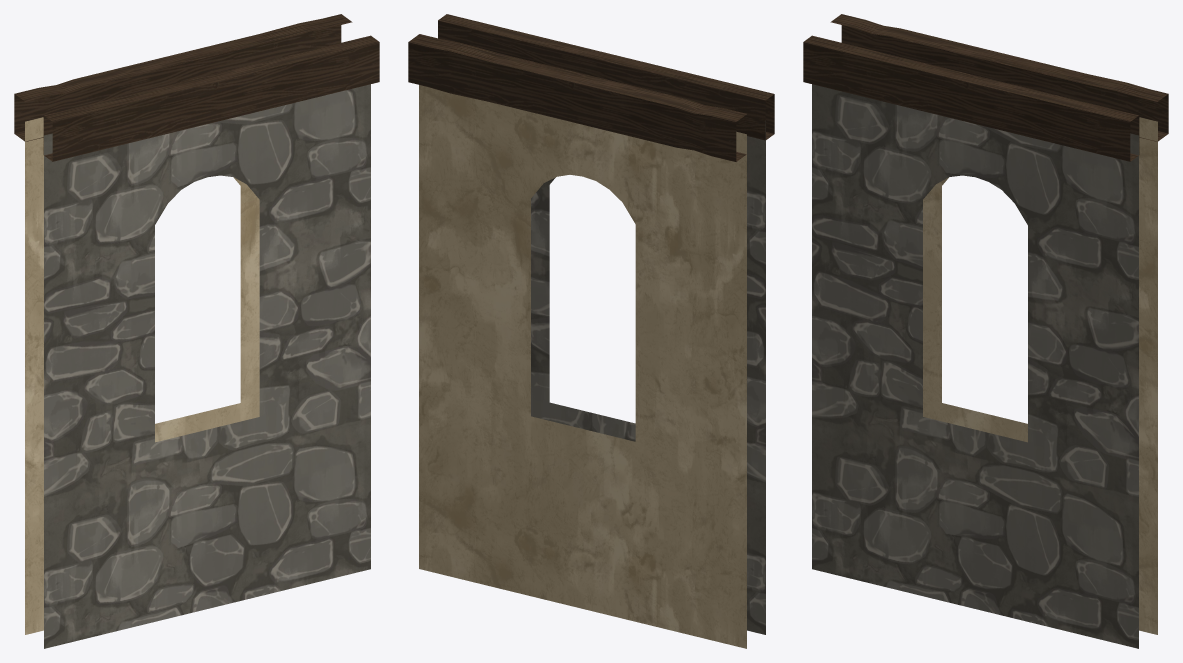
Rendered from Wall_UnevenBrick_Window_Thin_Round.gltf.
The picture shows the model from 3 angles, left to right: view 1: azimuth 30°, elevation 25°; view 2: azimuth 150°, elevation 25°; view 3: azimuth 330°, elevation 25°; orthographic projection.
Parts seen in each view (by area): view 1: Wall_UnevenBrick_Window_Thin_Round; view 2: Wall_UnevenBrick_Window_Thin_Round; view 3: Wall_UnevenBrick_Window_Thin_Round.
Boxes of the visible parts, x1,y1,x2,y2 form: Wall_UnevenBrick_Window_Thin_Round: (14, 14, 379, 648); Wall_UnevenBrick_Window_Thin_Round: (408, 14, 774, 648); Wall_UnevenBrick_Window_Thin_Round: (803, 14, 1168, 648).
Bounding box in the file's own units: 2 × 3.12 × 0.4065.
3 materials, 3 textured.
